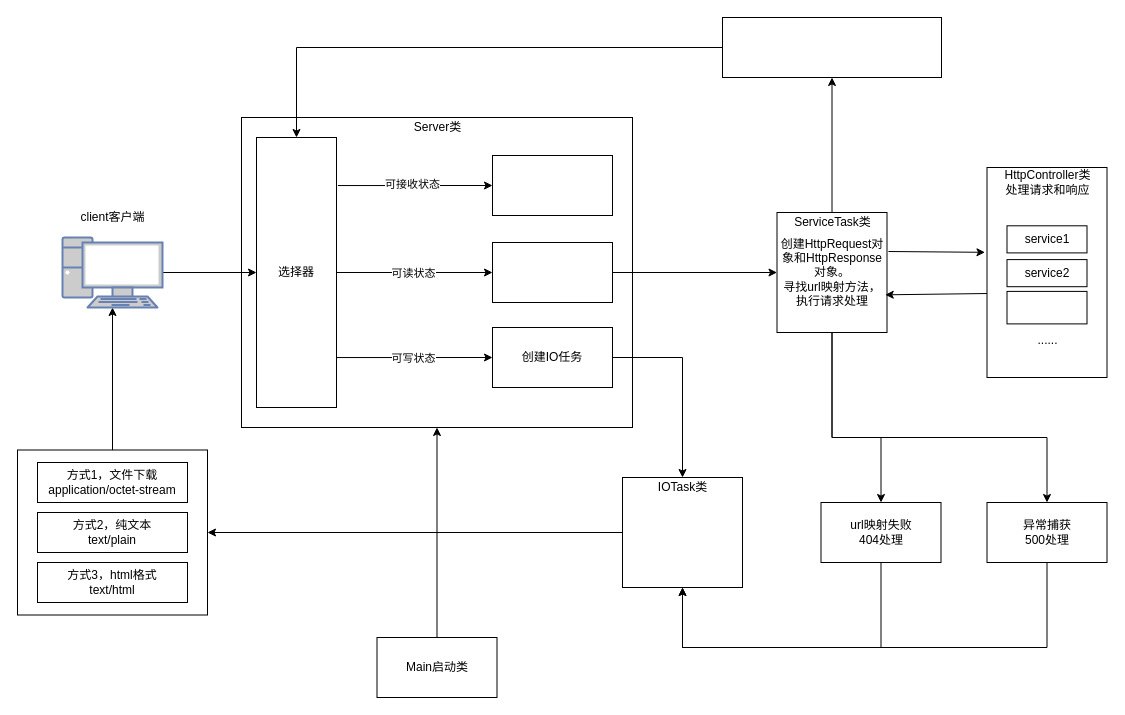
Image size: 1125x715. Some labels were removed from this diagram. The box of each missing label's shape, as (x1, y1, x2, y2) in pixels:
service3: (1006, 290, 1087, 324)
创建Service线程: (492, 242, 612, 302)
创建socket: (492, 154, 612, 216)
将处理好的响应数据返回给客户端 关闭socket: (622, 476, 742, 588)
选择器中的读状态的socket处理完毕 将socket指定监听写状态，返回选择器: (722, 16, 942, 78)
